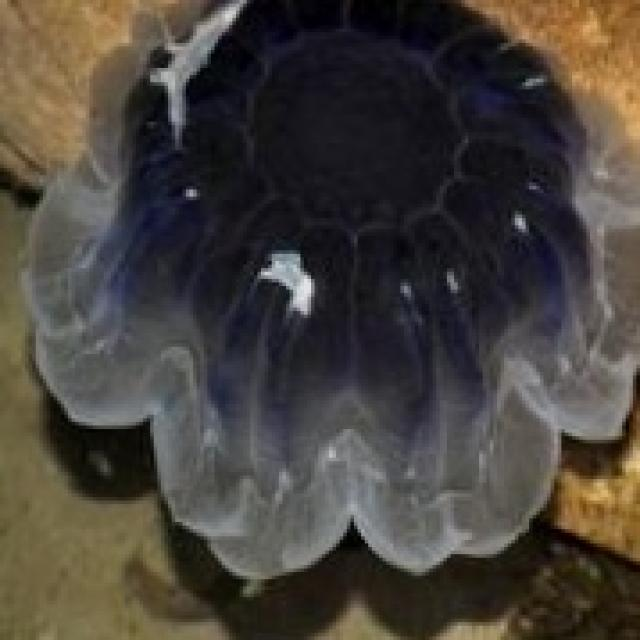Moon-jellyfish: (14, 0, 636, 594)
